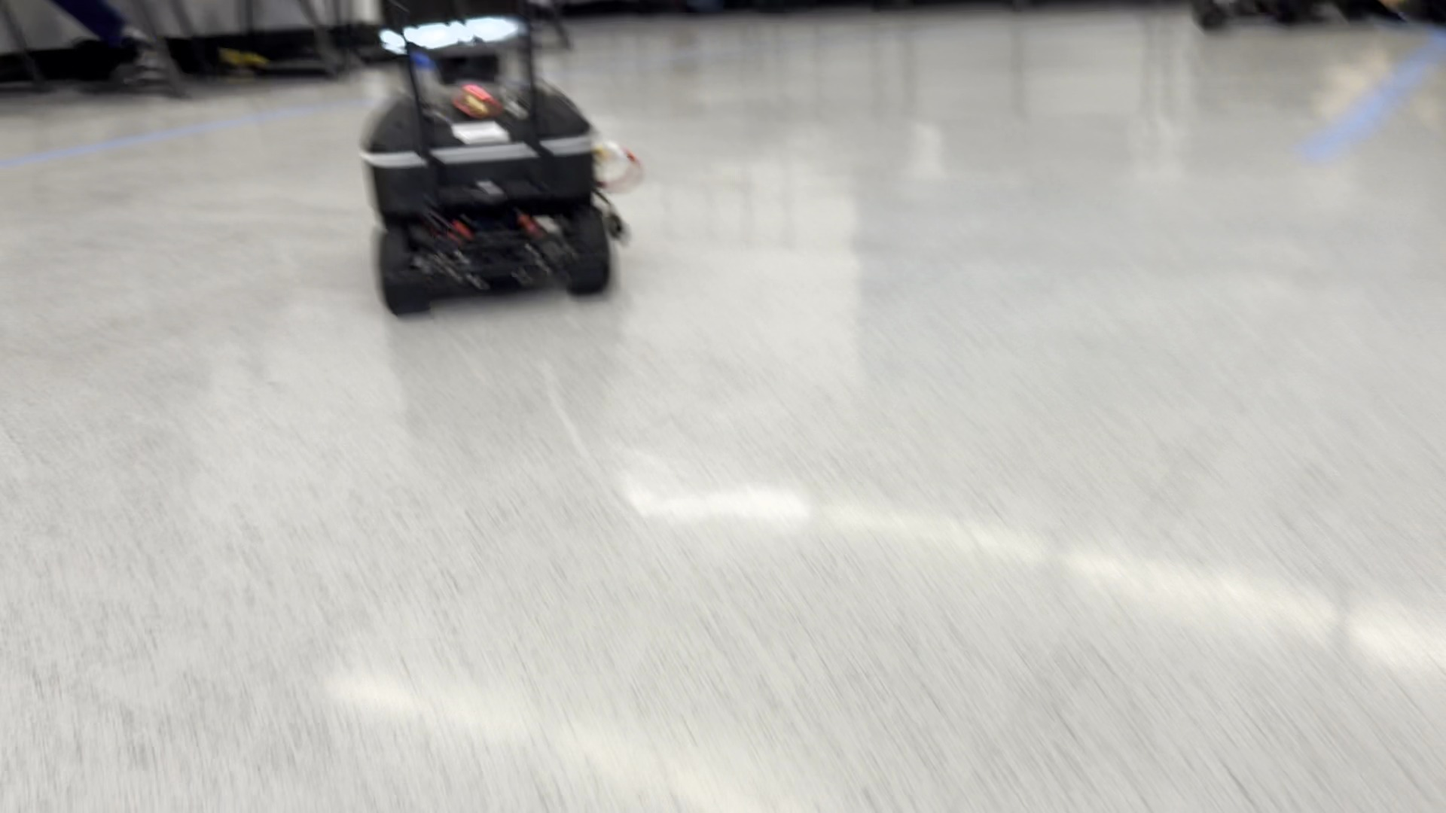racecar: (362, 4, 641, 318)
